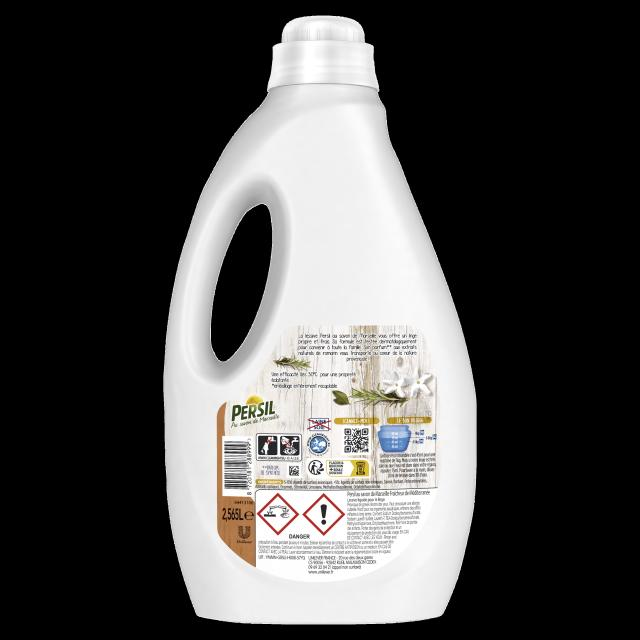GHS_Symbol_CORROSION: (258, 494, 300, 536)
GHS_Symbol_EXCLAMATION_MARK: (303, 494, 346, 536)
